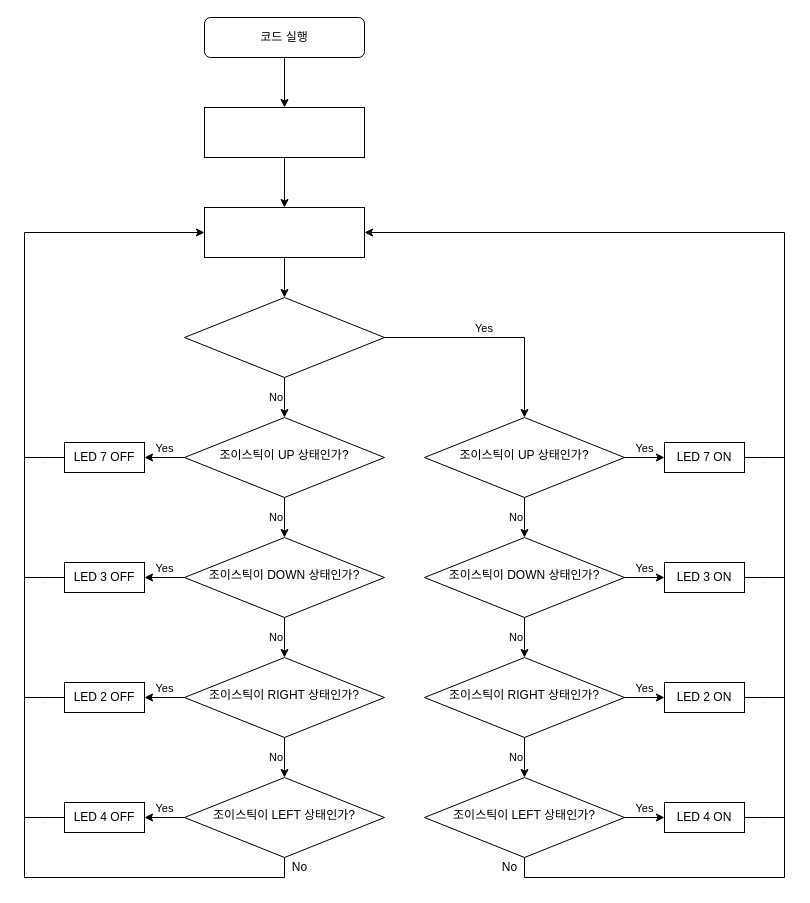
Some shapes in this 810 by 903 pixel diagram are drawn without their labels. The centre of each missing label's shape, as x and y in pixels:
S1 버튼이 눌러져 있는가?: (x=284, y=337)
각 포트별 레지스터 주소 정의 및 초기 설정: (x=284, y=132)
유휴 상태: (x=284, y=232)
